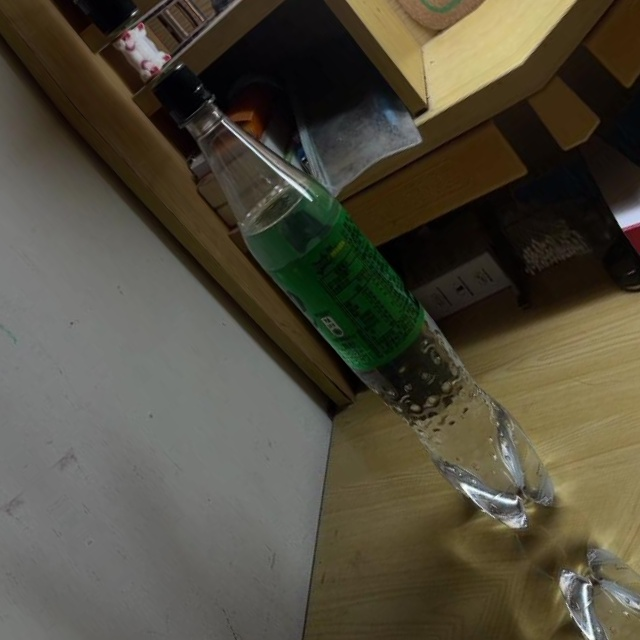Sprite: (127, 40, 584, 558)
